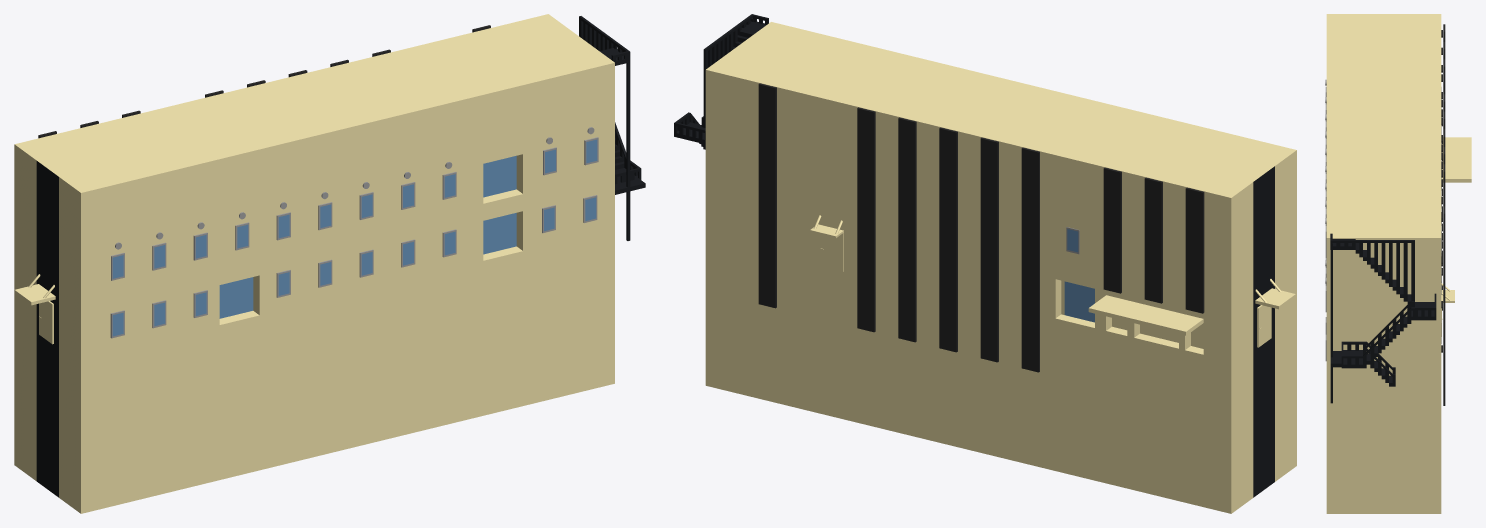
Rendered from Club-MeshBaker (6)-mesh-mesh.fbx.
3 renders of one model, left to right at view 1: azimuth 30°, elevation 25°; view 2: azimuth 150°, elevation 25°; view 3: azimuth 270°, elevation 25°, orthographic. The views are drawn at different scales.
Visible parts, largest first — view 1: Club_MeshBaker__6__mesh_mesh; view 2: Club_MeshBaker__6__mesh_mesh; view 3: Club_MeshBaker__6__mesh_mesh.
Part boxes in pixels (<box>): Club_MeshBaker__6__mesh_mesh: <box>14,14,645,513</box>; Club_MeshBaker__6__mesh_mesh: <box>674,14,1296,513</box>; Club_MeshBaker__6__mesh_mesh: <box>1325,14,1471,513</box>.
Size of the model in its own units: 6815 by 3582 by 1695.
